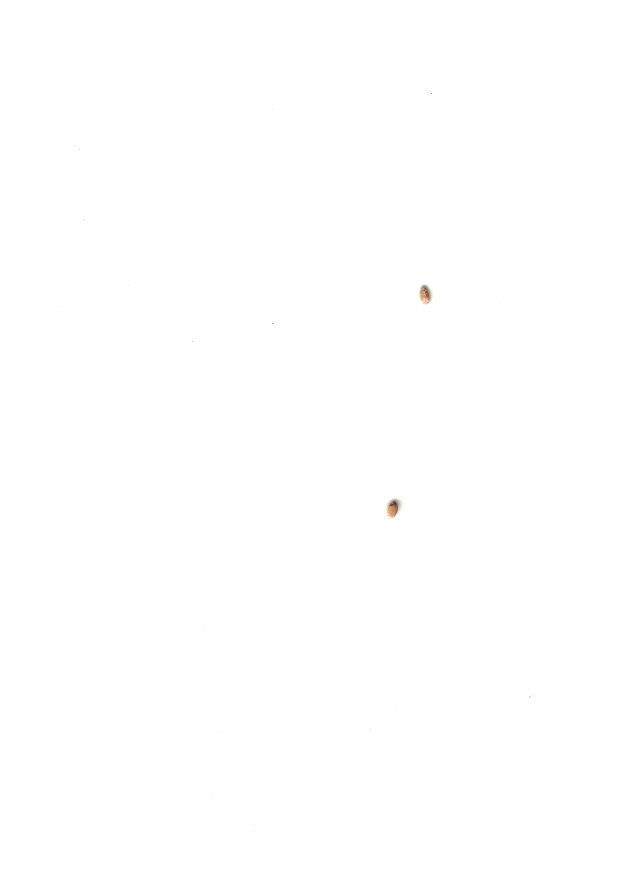grains: (378, 494, 407, 526), (412, 278, 437, 310)
